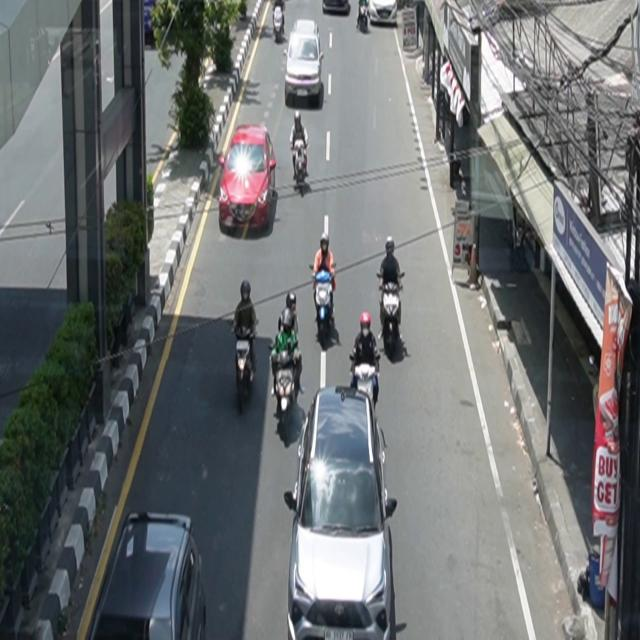car: (285, 386, 399, 640), (78, 512, 208, 640), (219, 124, 277, 233), (284, 19, 325, 108), (368, 1, 398, 26)
